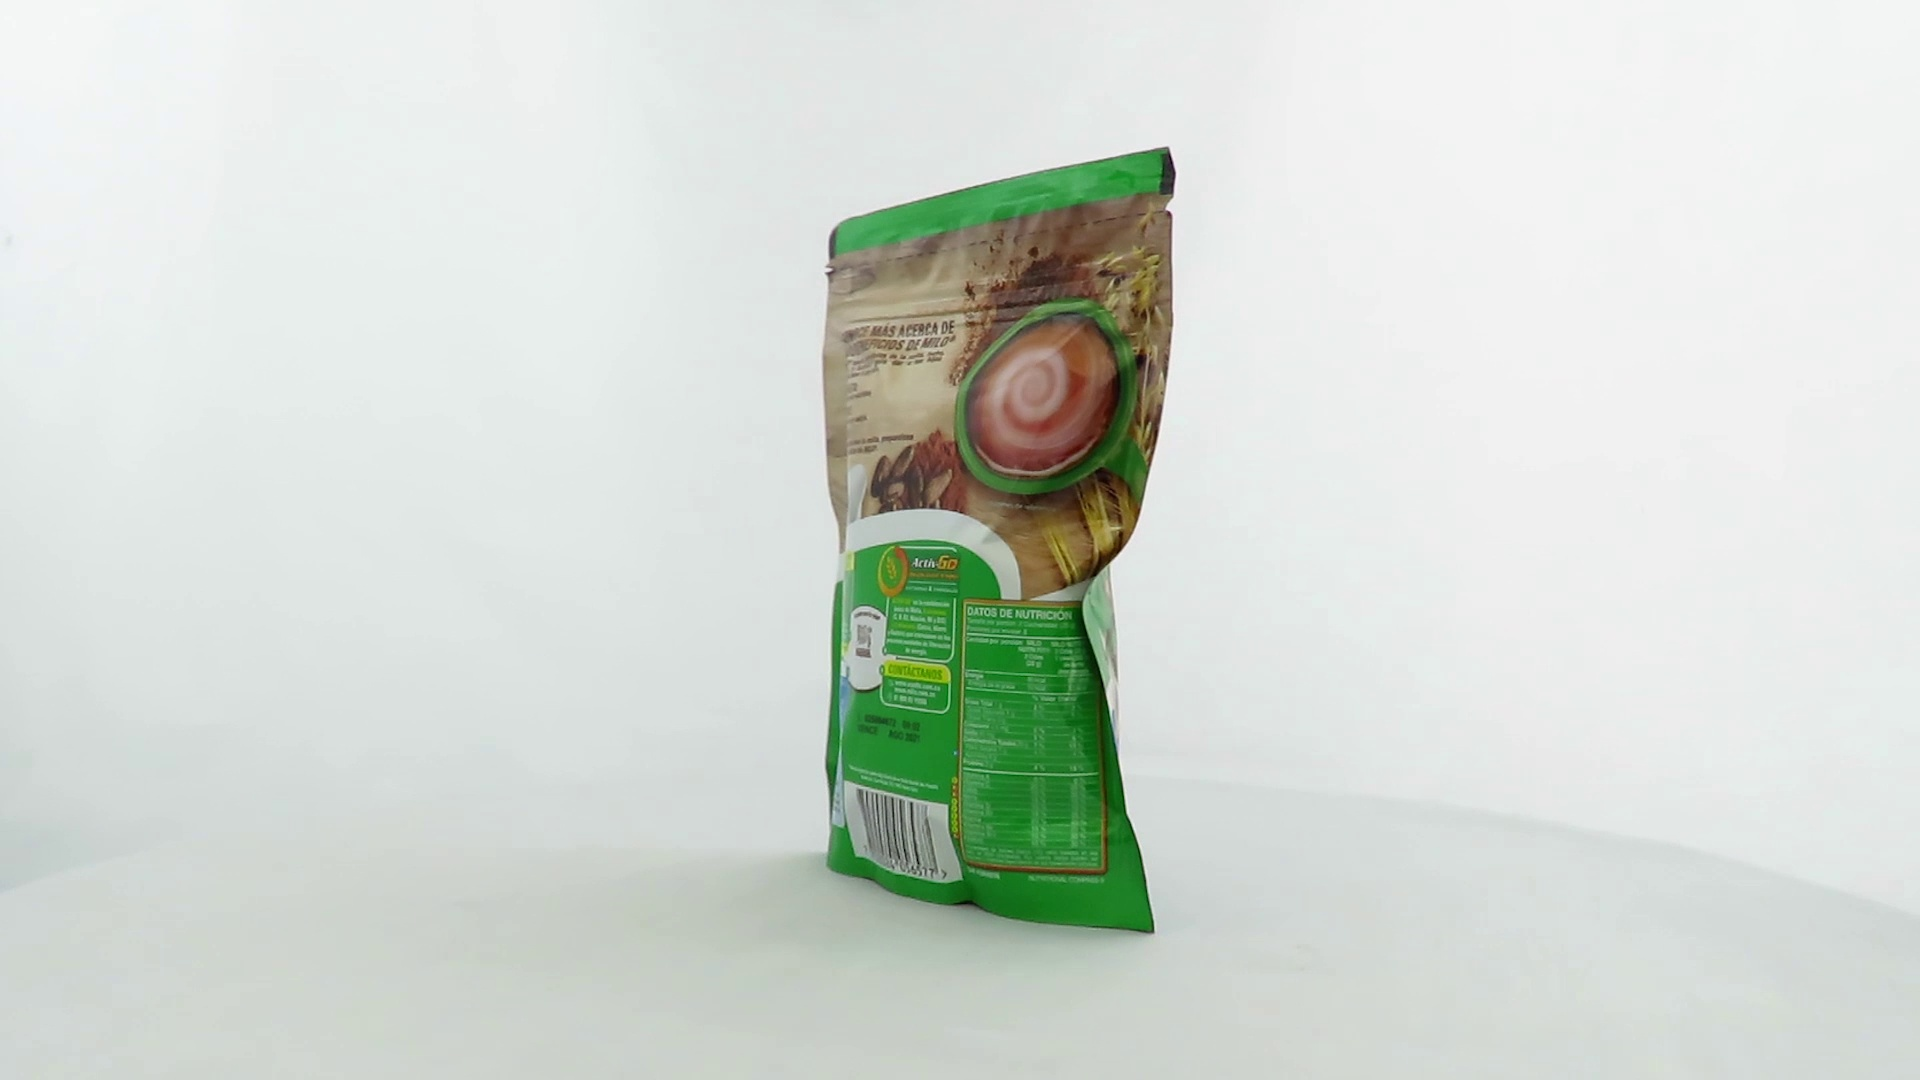COL0170205DYP20000: (818, 141, 1182, 940)
